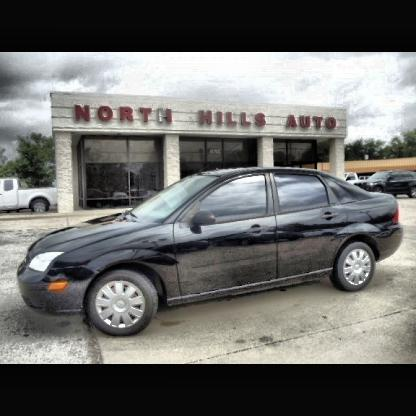Ford Focus Sedan 2007: (19, 169, 405, 337)
